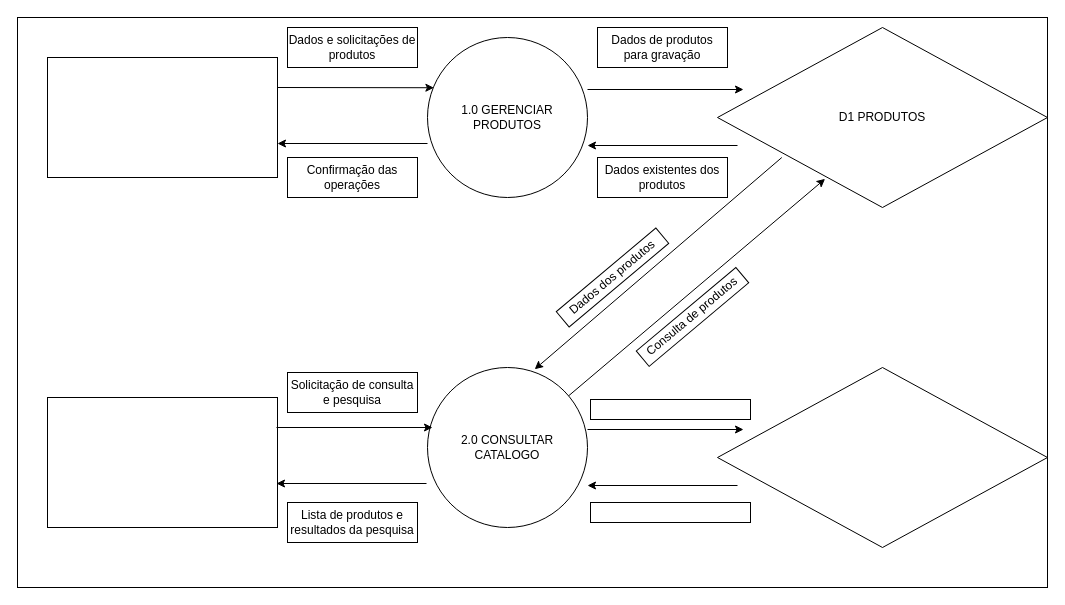
The diagram is 1065 pixels wide and 605 high, and some of its shapes have lost their labels. Each missing label, with the centre of its shape:
ADMINISTRADOR: the point at 162,117
CLIENTE: the point at 162,462
Consulta de categorias: the point at 670,409
D2 CATEGORIAS: the point at 882,457
Dados das categorias: the point at 670,512
